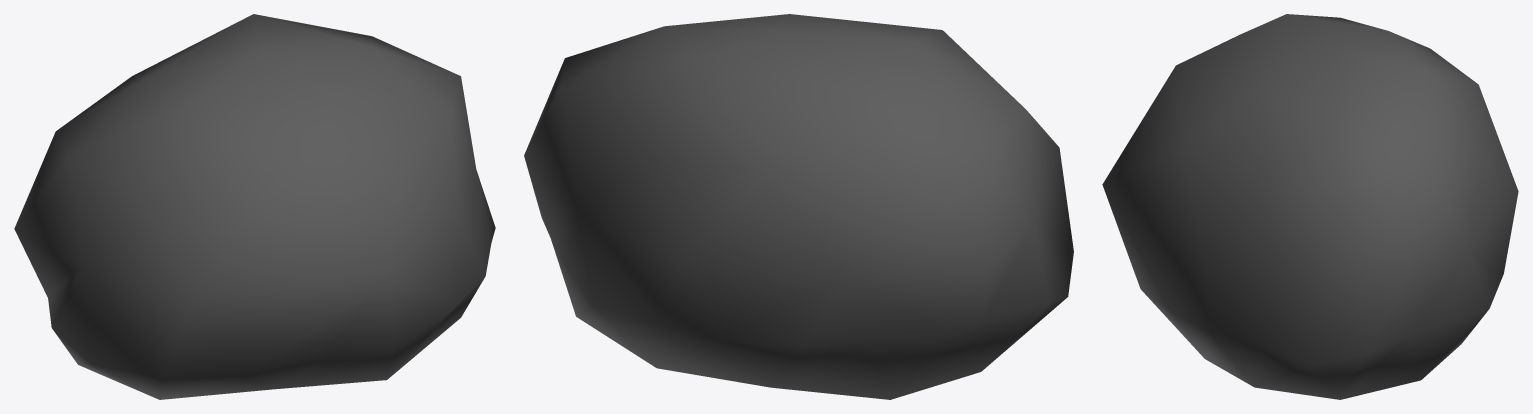
File: TheStone.glb
The picture shows the model from 3 angles, left to right: view 1: azimuth 30°, elevation 25°; view 2: azimuth 150°, elevation 25°; view 3: azimuth 270°, elevation 25°; orthographic projection. The views are drawn at different scales.
Visible parts, largest first — view 1: TheStone; view 2: TheStone; view 3: TheStone.
Boxes of the visible parts, box(x1,y1,x2,y2) form: TheStone: box(14, 14, 495, 399); TheStone: box(524, 14, 1073, 399); TheStone: box(1102, 14, 1518, 399).
Bounding box in the file's own units: 1.67 × 1.05 × 1.39.
Materials: 1 (1 with a texture image).
